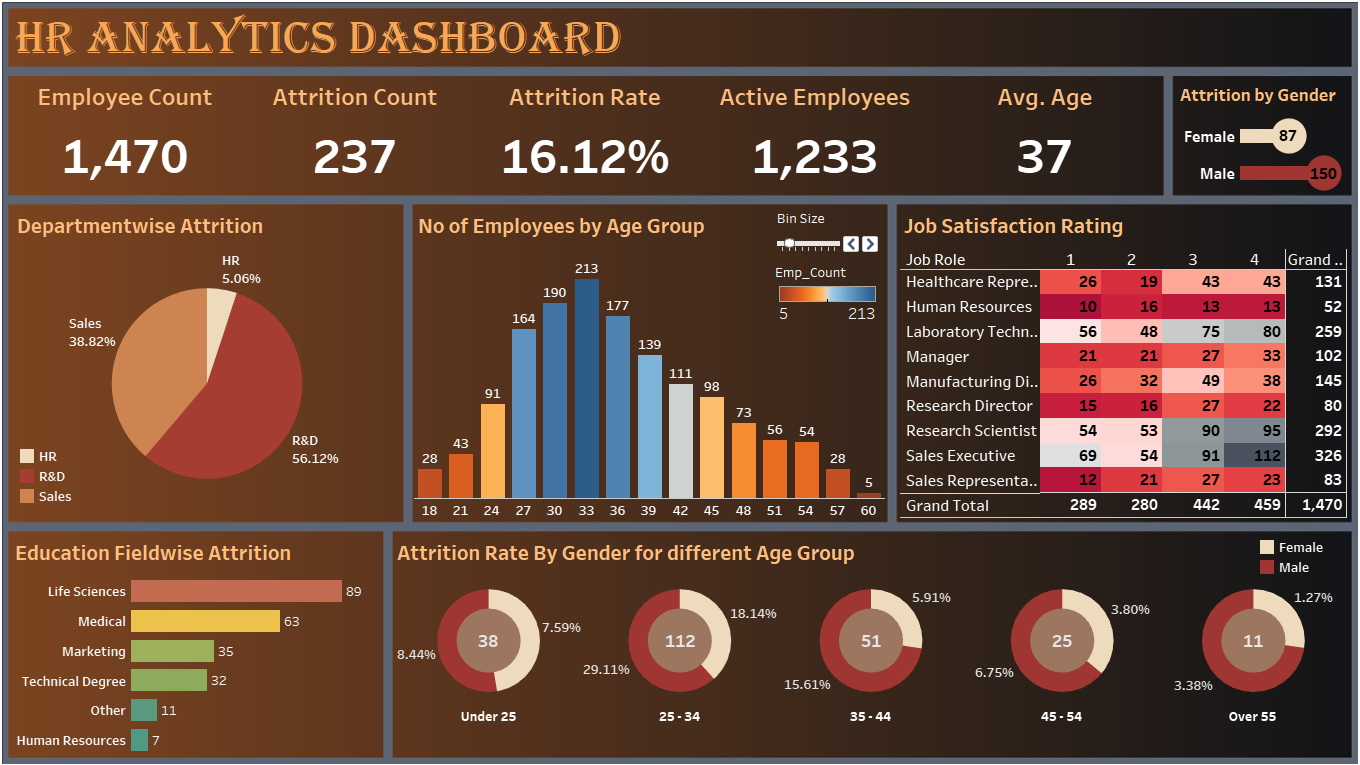

The dashboard page shown, as its layout file describes it:
{"tool":"tableau","page":{"name":"HR ANALYTICS DASHBOARD","canvas":[1580,900],"ordinal":0},"visuals":[{"type":"image","param":"D:/Tableau/Tableau Projects/HR Analytics Dashboard/HR background png/Slide6.PNG","box":[8,8,1564,884]},{"type":"text","box":[29,21,849,61]},{"type":"worksheet","title":"KPI","mark":"Automatic","box":[21,100,1319,128]},{"type":"worksheet","title":"Attrition by Gender","mark":"Automatic","rows":["Gender"],"cols":["Calculation_57139427861377024","Calculation_57139427861377024"],"box":[1360,101,195,128]},{"type":"parameter","param":"[Parameters].[Parameter 1]","box":[898,247,122,45]},{"type":"worksheet","title":"No of Employees by Age Group","mark":"Automatic","rows":["Employee Count"],"cols":["Age (bin)"],"box":[486,248,539,359]},{"type":"worksheet","title":"Departmentwise Attrition","mark":"Pie","box":[22,249,444,353]},{"type":"worksheet","title":"Job Satisfaction Rating","mark":"Square","rows":["Job Role"],"cols":["Job Satisfaction"],"box":[1042,249,512,355]},{"type":"legend","title":"No of Employees by Age Group","param":"[federated.019j9hf147zg2o135cf1100kdwwz].[sum:Employee Count:qk]","box":[899,302,120,56]},{"type":"legend","title":"Departmentwise Attrition","param":"[federated.019j9hf147zg2o135cf1100kdwwz].[none:Department:nk]","box":[31,537,95,64]},{"type":"worksheet","title":"Education field wise attrition","mark":"Automatic","rows":["Education Field"],"cols":["Calculation_57139427861377024"],"box":[22,623,422,177]},{"type":"worksheet","title":"Attrition Rate By Gender for different Age Group","mark":"Pie","rows":["Calculation_57139427911294981","Calculation_57139427911364615"],"cols":["CF_age band"],"box":[463,623,1094,175]},{"type":"legend","title":"Attrition Rate By Gender for different Age Group","param":"[federated.019j9hf147zg2o135cf1100kdwwz].[none:Gender:nk]","box":[1305,630,246,29]}]}

Visuals, with their boxes in screenshot pixels (x1, y1, x2, y2), scaled from the page's 1580x900 canvas onto the 1360x765 screenshot:
image: BBox(7, 7, 1353, 758)
text: BBox(25, 18, 756, 70)
"KPI" worksheet: BBox(18, 85, 1153, 194)
"Attrition by Gender" worksheet: BBox(1171, 86, 1338, 195)
parameter: BBox(773, 210, 878, 248)
"No of Employees by Age Group" worksheet: BBox(418, 211, 882, 516)
"Departmentwise Attrition" worksheet (Pie marks): BBox(19, 212, 401, 512)
"Job Satisfaction Rating" worksheet (Square marks): BBox(897, 212, 1338, 513)
"No of Employees by Age Group" legend: BBox(774, 257, 877, 304)
"Departmentwise Attrition" legend: BBox(27, 456, 108, 511)
"Education field wise attrition" worksheet: BBox(19, 530, 382, 680)
"Attrition Rate By Gender for different Age Group" worksheet (Pie marks): BBox(399, 530, 1340, 678)
"Attrition Rate By Gender for different Age Group" legend: BBox(1123, 536, 1335, 560)
